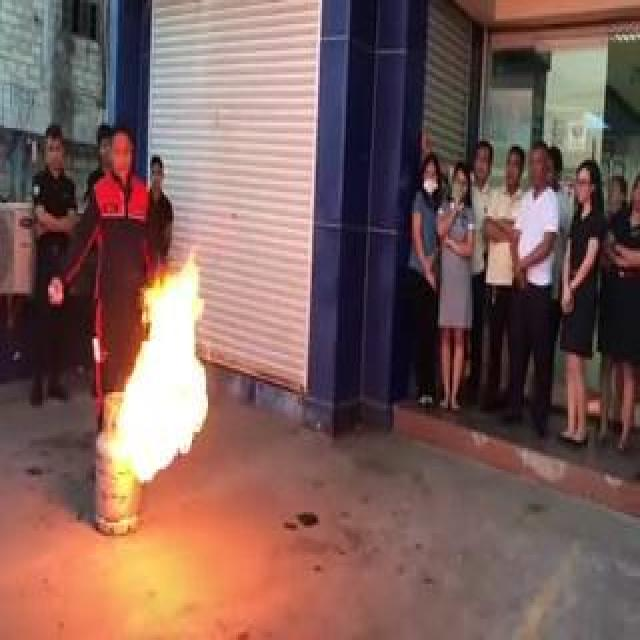Smoke: (49, 242, 153, 482)
